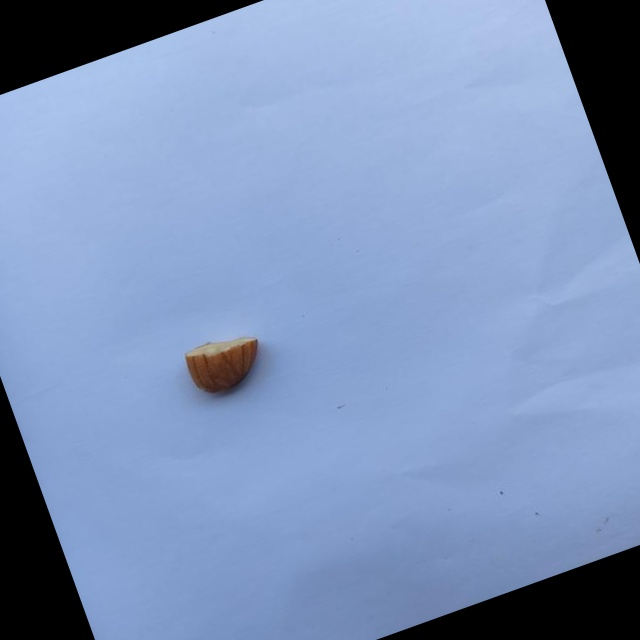grade4: (174, 320, 280, 409)
